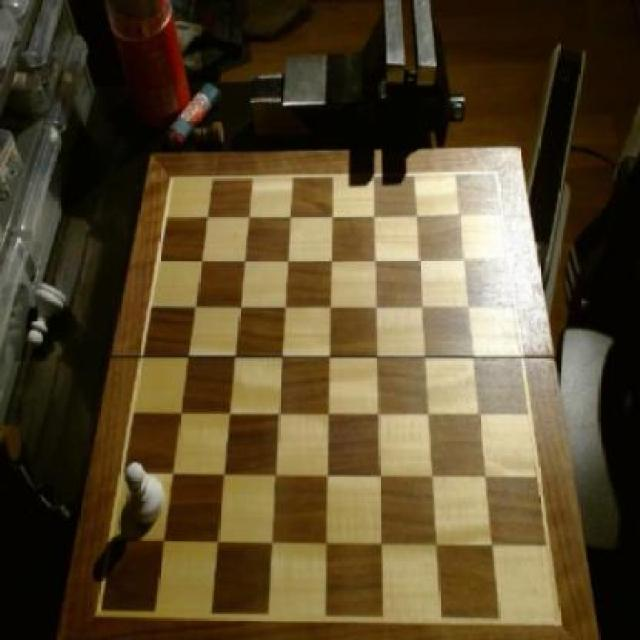white-knight: (123, 460, 164, 528)
